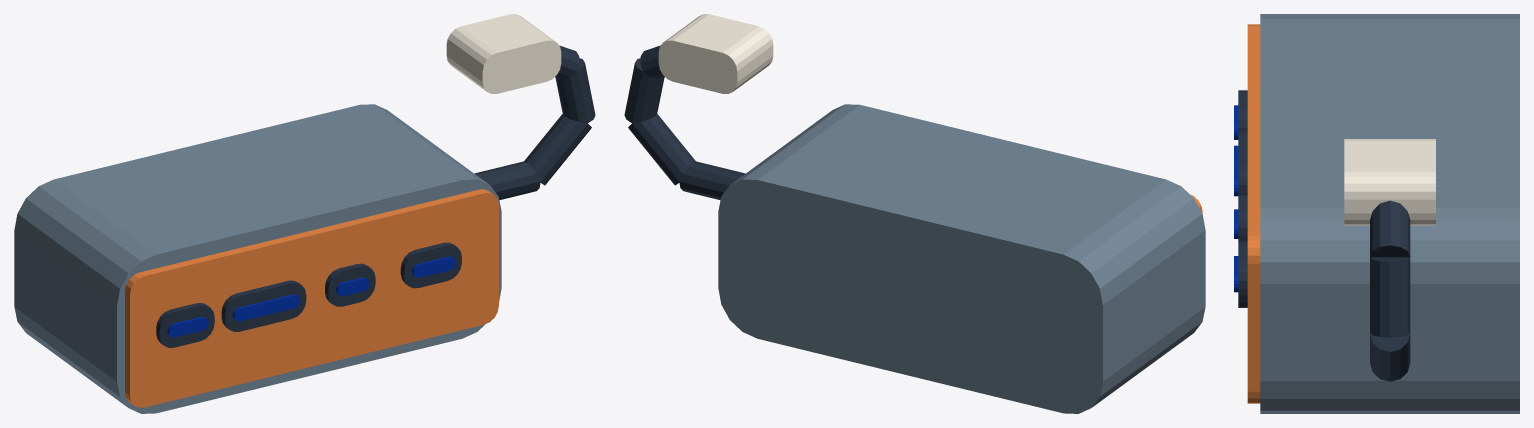
File: adapterhub.glb
3 views of the same model, side by side, from view 1: azimuth 30°, elevation 25°; view 2: azimuth 150°, elevation 25°; view 3: azimuth 270°, elevation 25° (orthographic). The views are drawn at different scales.
Parts seen in each view (by area): view 1: shell, face, plug, port 1, cable1, port 3, cable2, cable0, port 0, port 2, port tongue 1, port tongue 3 (+2 smaller); view 2: shell, plug, cable1, cable2, cable0, cable3; view 3: shell, plug, face, cable2, cable3, cable1, port 3, port 1, port 2, port 0.
Part boxes in pixels (x1,y1,x2,y2): shell: (14,104,501,413); face: (125,189,498,407); plug: (446,14,561,93); port 1: (221,280,306,331); cable1: (524,114,591,185); port 3: (400,242,461,288); cable2: (555,58,595,123); cable0: (474,161,540,200); port 0: (156,303,214,347); port 2: (325,263,375,306); port tongue 1: (233,294,300,321); port tongue 3: (412,256,455,277); shell: (718,104,1205,413); plug: (658,14,773,93); cable1: (628,114,695,185); cable2: (624,58,664,123); cable0: (679,161,745,200); cable3: (640,45,664,78); shell: (1260,14,1519,413); plug: (1344,139,1435,225); face: (1247,24,1260,403); cable2: (1370,257,1410,337); cable3: (1370,200,1410,257); cable1: (1370,333,1410,381); port 3: (1238,241,1247,307); port 1: (1238,130,1247,194); port 2: (1238,194,1247,241); port 0: (1238,90,1247,130).
Size of the model in its own units: 2.02 by 0.895 by 0.749.
